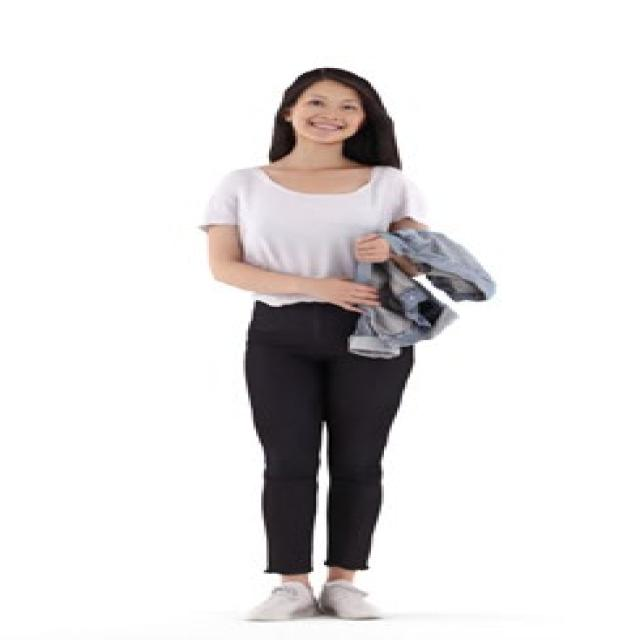standing: (200, 68, 430, 622)
